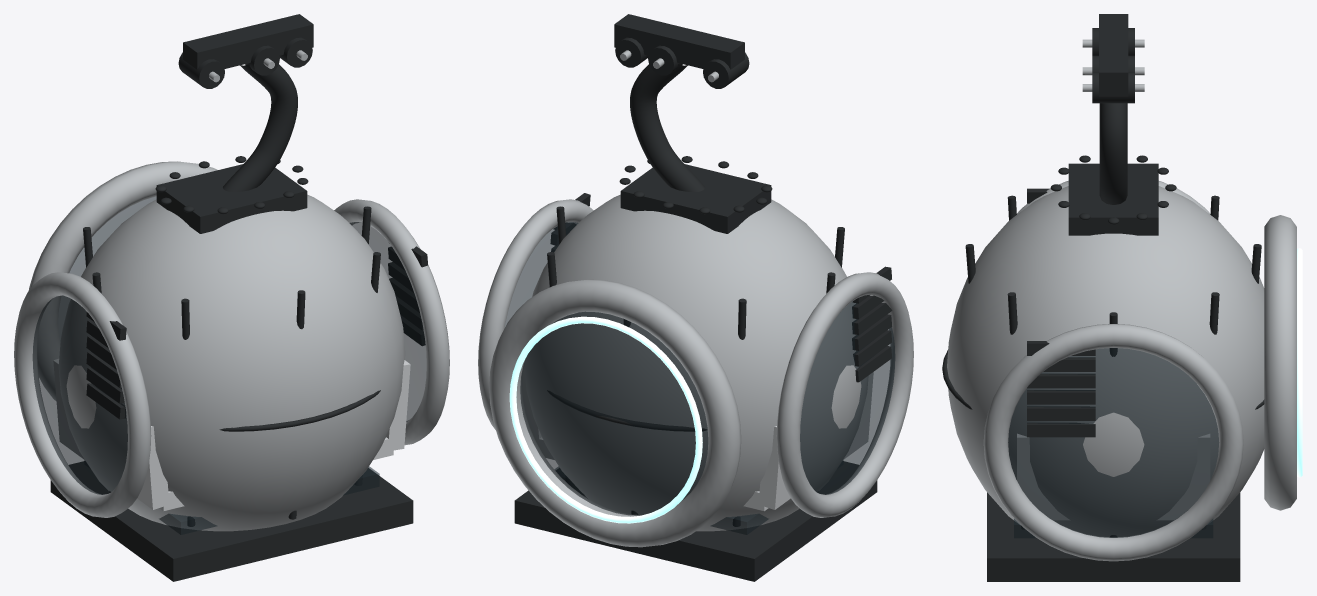
The model's file is singapore-cable-car-skyorb.glb.
3 views of the same model, side by side, from view 1: azimuth 30°, elevation 25°; view 2: azimuth 150°, elevation 25°; view 3: azimuth 270°, elevation 25° (orthographic). The views are drawn at different scales.
Parts seen in each view (by area): view 1: cabin-shell/orb-shell, cabin-shell/lower-skirt, window-system/side-window-ring--1, window-system/side-glazing--1, window-system/front-window-ring, window-system/side-window-ring-1, hanger-grip/roof-plate, hanger-grip/s-curved-hanger, hanger-grip/grip-beam, window-system/side-glazing-1, interior/bench-back--1, window-system/front-glazing (+8 smaller); view 2: cabin-shell/orb-shell, window-system/front-glazing, window-system/front-window-ring, window-system/side-window-ring--1, window-system/side-glazing--1, cabin-shell/lower-skirt, hanger-grip/roof-plate, window-system/side-window-ring-1, window-system/front-led-ring, hanger-grip/s-curved-hanger, hanger-grip/grip-beam, interior/bench-back--1 (+10 smaller); view 3: cabin-shell/orb-shell, window-system/side-glazing-1, window-system/side-window-ring-1, cabin-shell/lower-skirt, window-system/front-window-ring, hanger-grip/roof-plate, hanger-grip/s-curved-hanger, interior/bench-back-1, hanger-grip/grip-beam, window-system/front-led-ring, rib-louvre-system/louvre-1-2, rib-louvre-system/louvre-1-1 (+5 smaller).
Part boxes in pixels (box(x1,y1,x2,y2)): cabin-shell/orb-shell: box(59, 194, 405, 531); cabin-shell/lower-skirt: box(50, 461, 413, 581); window-system/side-window-ring--1: box(14, 272, 151, 517); window-system/side-glazing--1: box(32, 295, 127, 494); window-system/front-window-ring: box(28, 161, 217, 400); window-system/side-window-ring-1: box(334, 199, 449, 445); hanger-grip/roof-plate: box(156, 164, 307, 233); hanger-grip/s-curved-hanger: box(223, 64, 297, 191); hanger-grip/grip-beam: box(183, 14, 313, 69); window-system/side-glazing-1: box(349, 222, 426, 421); interior/bench-back--1: box(53, 359, 169, 509); window-system/front-glazing: box(58, 196, 156, 340); cabin-shell/orb-shell: box(524, 194, 868, 531); window-system/front-glazing: box(520, 311, 708, 515); window-system/front-window-ring: box(489, 279, 741, 547); window-system/side-window-ring--1: box(776, 272, 913, 517); window-system/side-glazing--1: box(800, 301, 895, 494); cabin-shell/lower-skirt: box(514, 461, 877, 581); hanger-grip/roof-plate: box(620, 164, 771, 233); window-system/side-window-ring-1: box(478, 199, 593, 429); window-system/front-led-ring: box(509, 316, 702, 523); hanger-grip/s-curved-hanger: box(630, 64, 704, 191); hanger-grip/grip-beam: box(614, 14, 744, 69); interior/bench-back--1: box(759, 372, 873, 509); cabin-shell/orb-shell: box(947, 186, 1264, 536); window-system/side-glazing-1: box(1008, 348, 1219, 537); window-system/side-window-ring-1: box(983, 324, 1243, 561); cabin-shell/lower-skirt: box(987, 492, 1240, 581); window-system/front-window-ring: box(1264, 215, 1296, 510); hanger-grip/roof-plate: box(1068, 163, 1158, 235); hanger-grip/s-curved-hanger: box(1099, 103, 1127, 204); interior/bench-back-1: box(1017, 434, 1209, 519); hanger-grip/grip-beam: box(1099, 14, 1128, 96); window-system/front-led-ring: box(1297, 248, 1302, 477); rib-louvre-system/louvre-1-2: box(1027, 390, 1095, 404); rib-louvre-system/louvre-1-1: box(1027, 406, 1095, 420).
Size of the model in its own units: 2.32 by 3.42 by 2.2.
